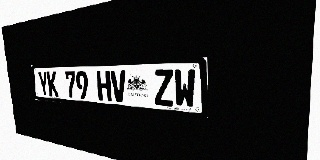7: (64, 71, 77, 99)
9: (75, 71, 89, 100)
H: (96, 70, 112, 101)
K: (47, 71, 59, 97)
V: (110, 70, 127, 103)
W: (174, 69, 196, 108)
Y: (38, 71, 49, 96)
Z: (153, 69, 174, 107)
